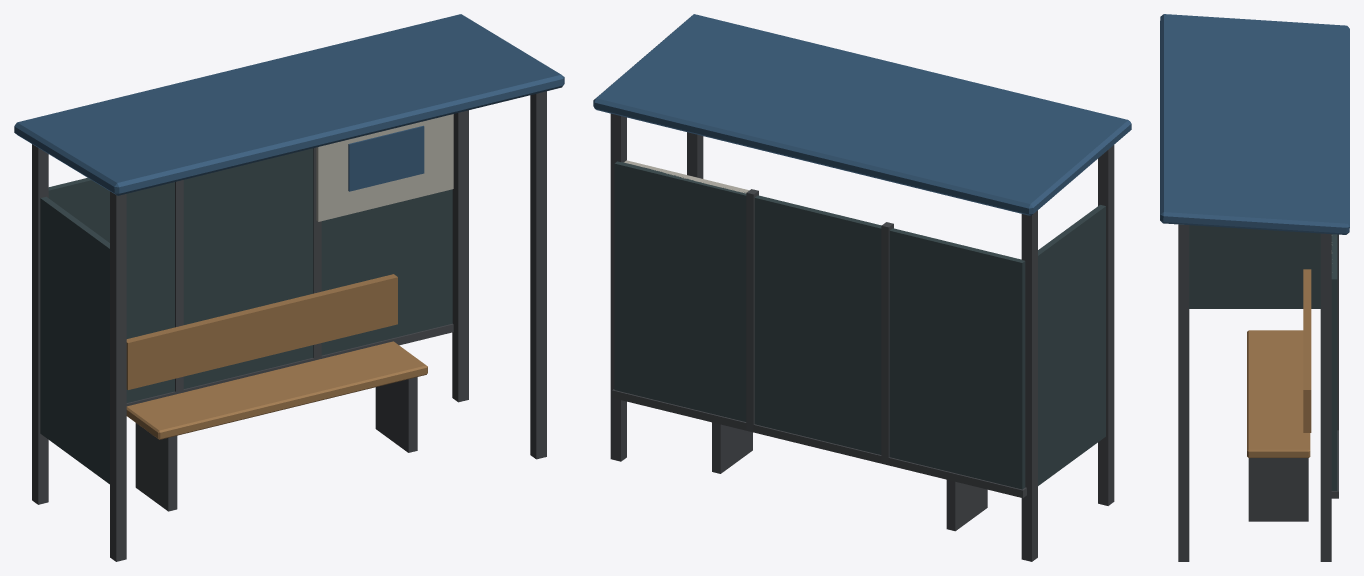
The model's file is bus_stop.fbx.
3 renders of one model, left to right at view 1: azimuth 30°, elevation 25°; view 2: azimuth 150°, elevation 25°; view 3: azimuth 270°, elevation 25°, orthographic. The views are drawn at different scales.
Parts seen in each view (by area): view 1: bus_stop; view 2: bus_stop; view 3: bus_stop.
Boxes of the visible parts, x1,y1,x2,y2 form: bus_stop: [14, 14, 564, 561]; bus_stop: [593, 14, 1131, 561]; bus_stop: [1160, 14, 1349, 561].
Bounding box in the file's own units: 3 × 2.46 × 1.2.
